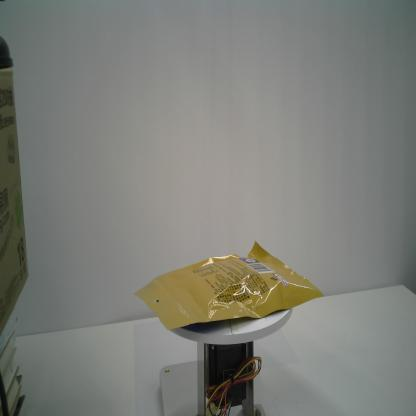Dried Fruit: (130, 238, 325, 332)
